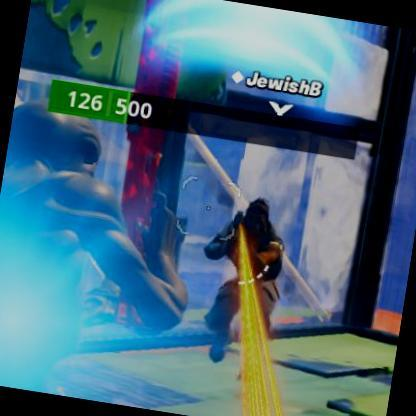Person: (214, 210, 288, 382)
